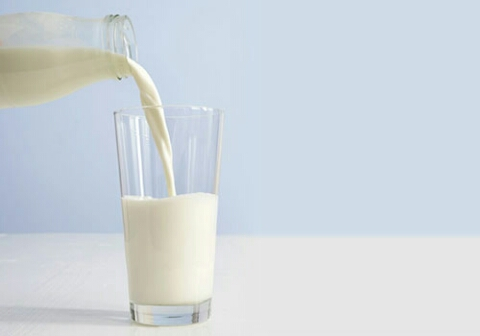glass of milk: (107, 98, 232, 330), (1, 6, 144, 109)
